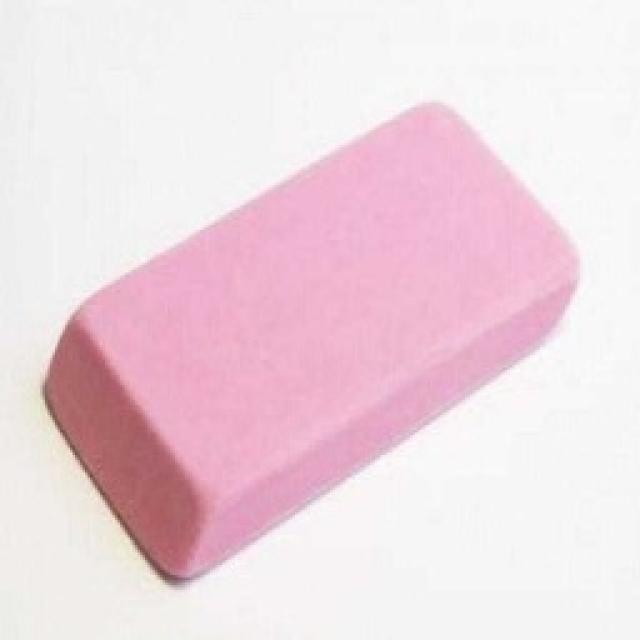Silgi: (41, 97, 582, 579)
